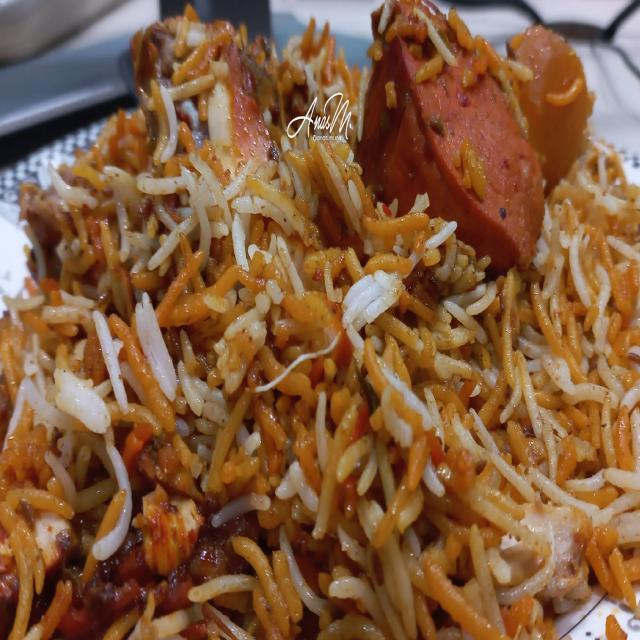Biryani: (5, 6, 640, 609)
